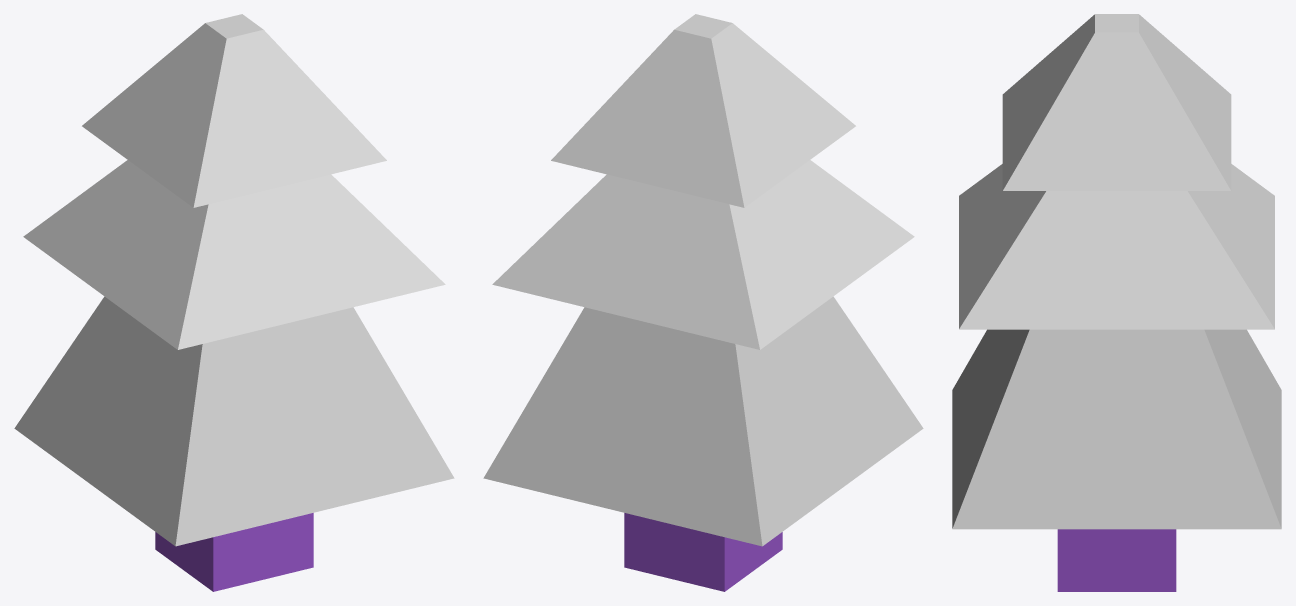
File: tree.fbx
3 renders of one model, left to right at view 1: azimuth 30°, elevation 25°; view 2: azimuth 150°, elevation 25°; view 3: azimuth 270°, elevation 25°, orthographic. The views are drawn at different scales.
Parts seen in each view (by area): view 1: Cube; view 2: Cube; view 3: Cube.
Part boxes in pixels (<box>): Cube: <box>14,14,454,591</box>; Cube: <box>483,14,923,591</box>; Cube: <box>952,14,1281,591</box>.
Size of the model in its own units: 556 by 1013 by 556.
